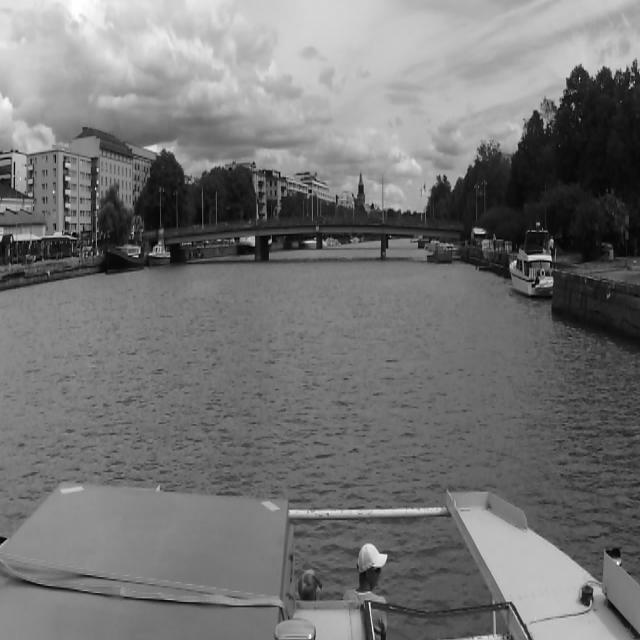ship: (508, 228, 555, 303), (103, 225, 145, 269), (151, 225, 171, 264)
